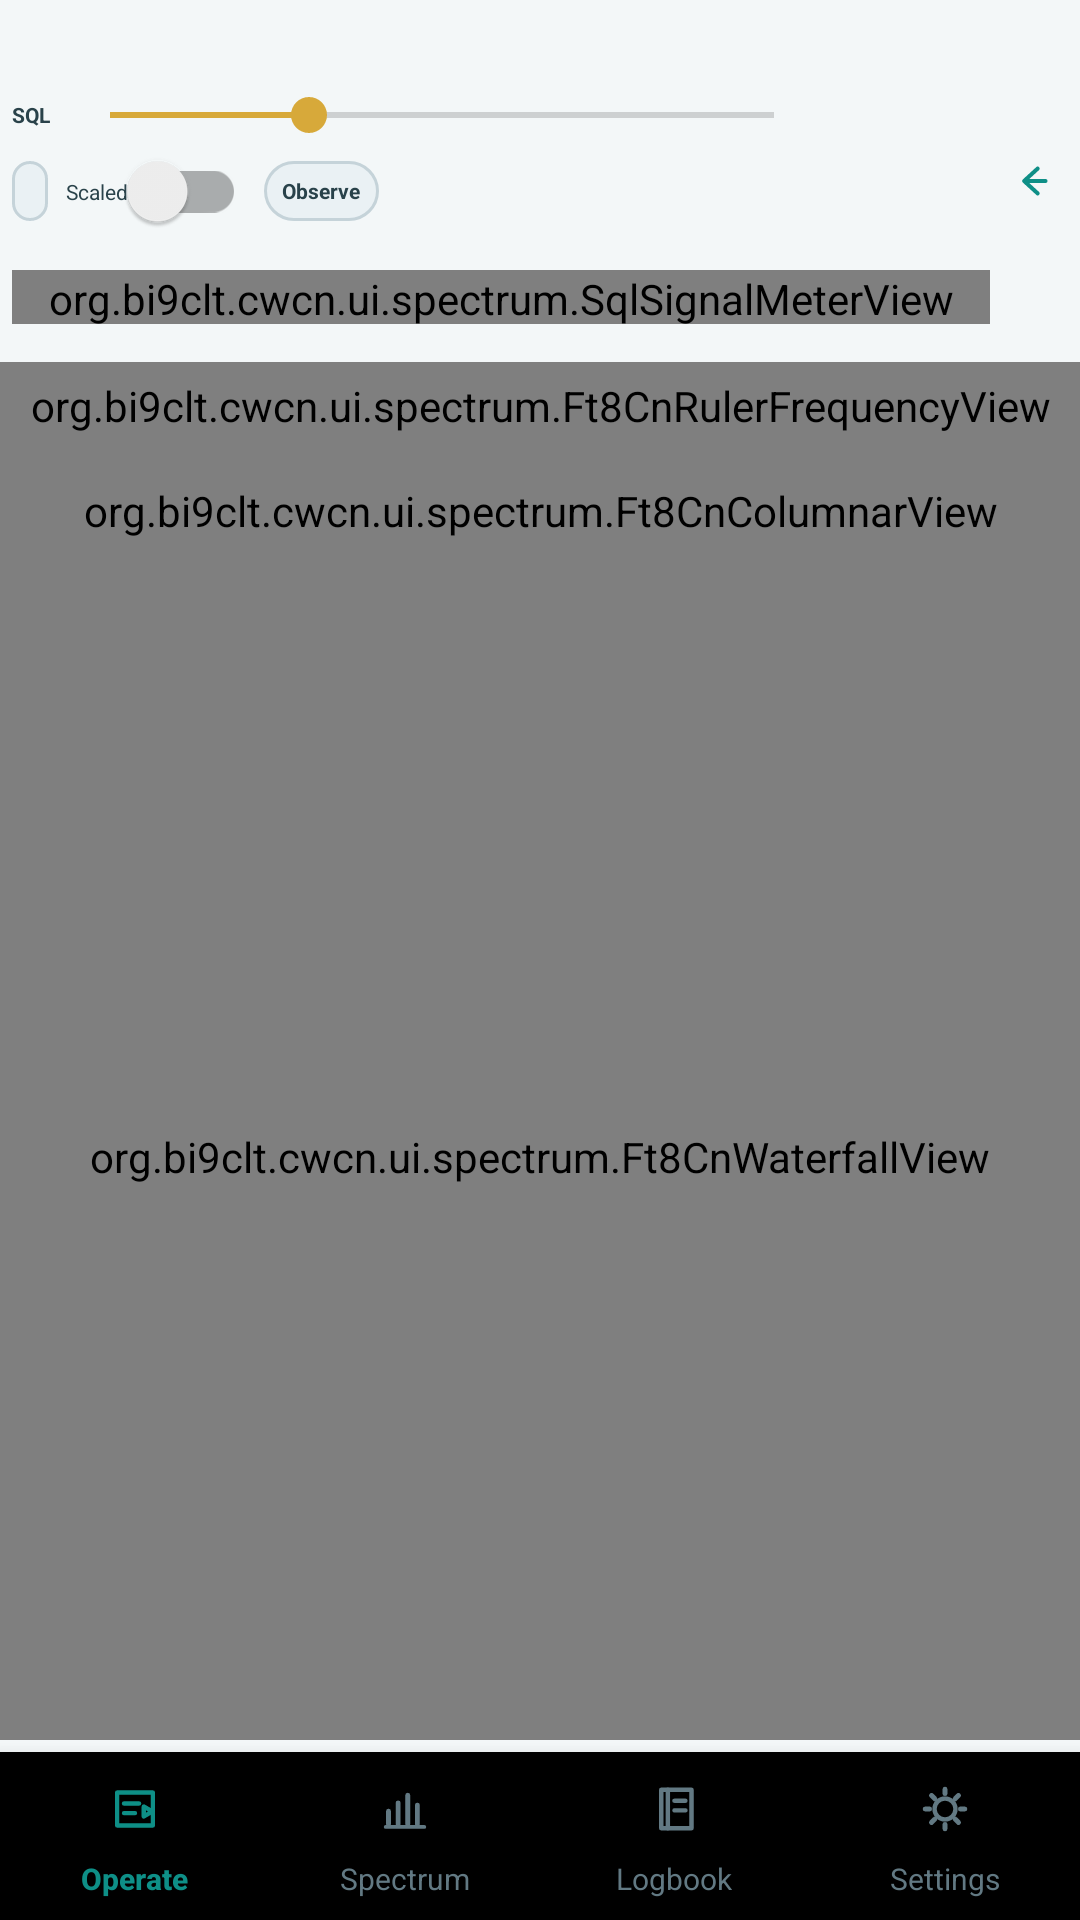

Point at icon controls on the screen. Image size 1080x1920, points as point (x, y).
Back to operate: point (1035, 181)
